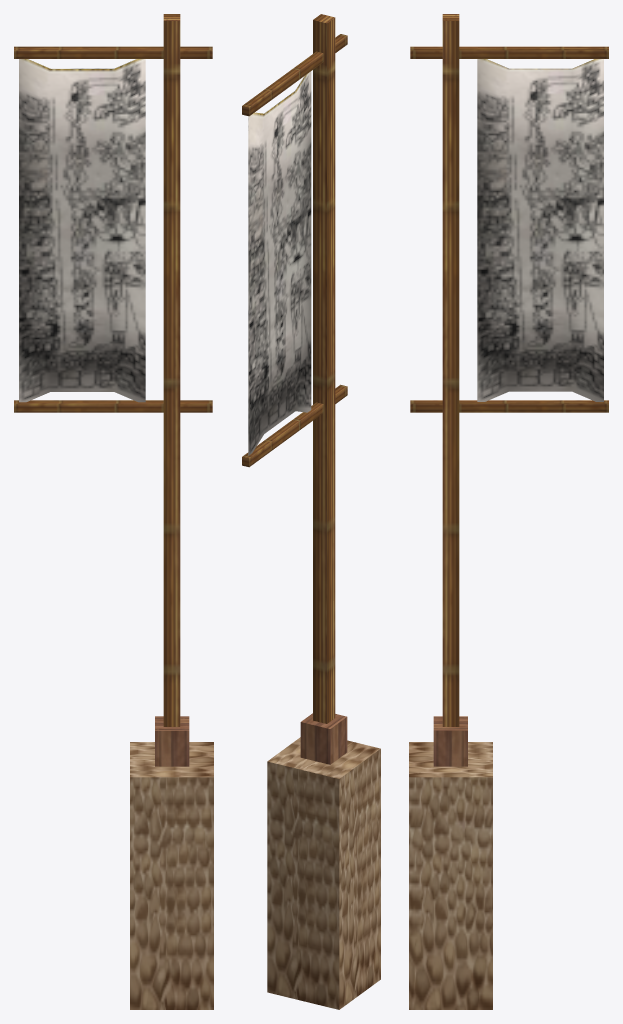
Rendered from maya_baner_a.dae.
3 views of the same model, side by side, from view 1: azimuth 90°, elevation 25°; view 2: azimuth 150°, elevation 25°; view 3: azimuth 270°, elevation 25° (orthographic).
Parts seen in each view (by area): view 1: Cubo; view 2: Cubo; view 3: Cubo.
Part boxes in pixels (x1,y1,x2,y2): Cubo: [14, 14, 213, 1009]; Cubo: [242, 14, 380, 1009]; Cubo: [409, 14, 608, 1009].
Bounding box in the file's own units: 0.79 × 1.88 × 10.13.
